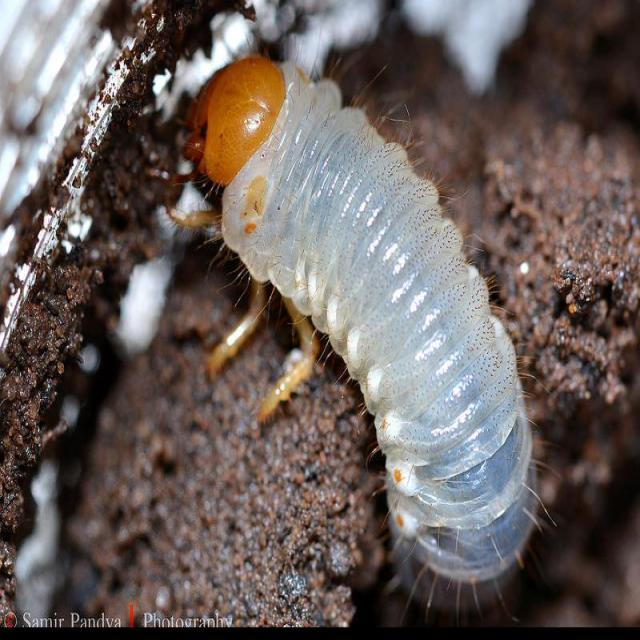Grub-Adult-: (152, 43, 546, 594)
